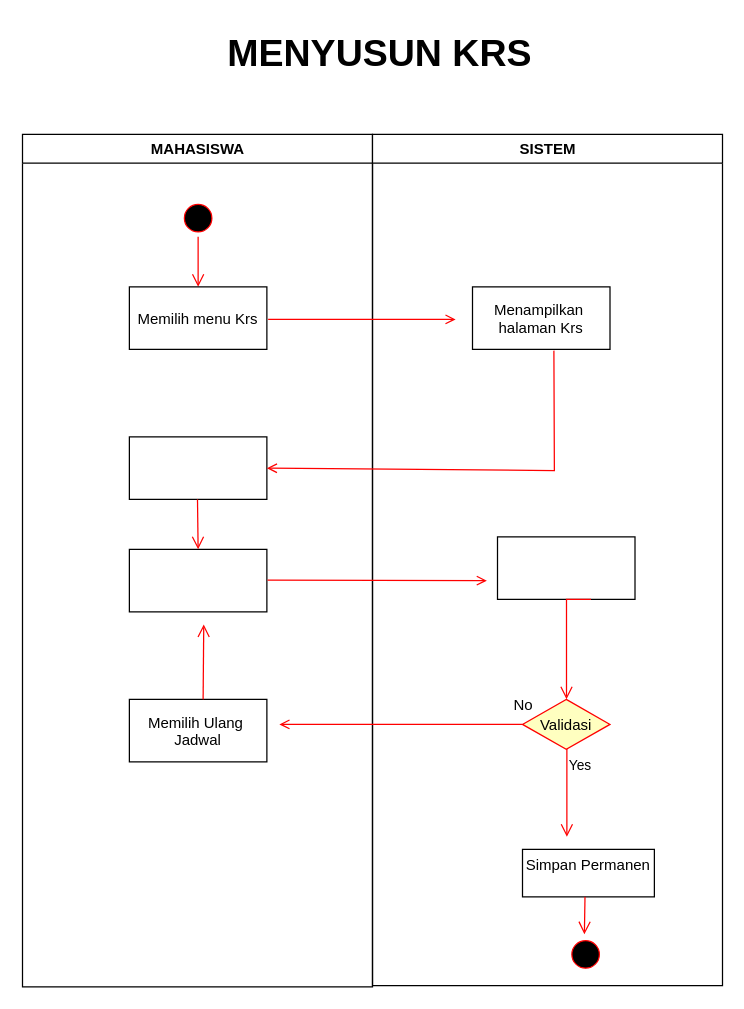
Image size: 744x1009. Some labels were removed from this diagram. Each missing label, with the centre of its shape:
klik Simpan: (x=197, y=580)
Memilih Jadwal: (x=197, y=467)
Menampilkan Hasil Pilihan Jadwal: (x=565, y=567)
